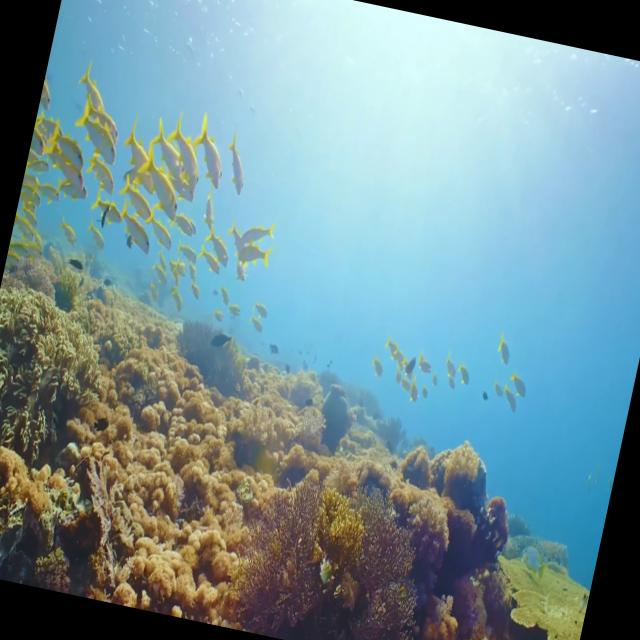fish: (63, 104, 130, 170), (131, 148, 190, 222), (180, 115, 234, 192), (38, 132, 95, 198), (216, 125, 260, 202), (164, 120, 212, 187), (142, 120, 192, 177), (42, 110, 92, 164), (110, 210, 163, 258), (116, 175, 164, 222), (83, 146, 127, 197), (83, 194, 128, 234), (200, 230, 242, 272), (86, 102, 126, 145), (488, 318, 519, 371), (237, 235, 279, 272), (236, 218, 281, 250), (70, 62, 102, 104), (9, 212, 42, 252), (120, 124, 151, 166), (36, 65, 60, 118), (192, 249, 228, 278), (508, 368, 534, 407), (500, 386, 523, 426), (167, 278, 190, 318), (200, 188, 224, 226), (29, 122, 54, 158), (366, 351, 390, 385), (439, 348, 464, 376), (401, 352, 420, 382), (253, 300, 274, 326), (456, 364, 476, 389), (218, 280, 235, 308)
